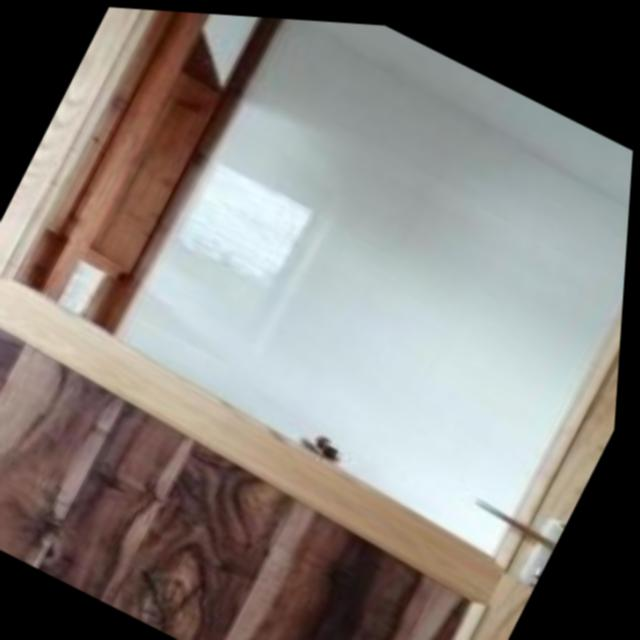door_handle: (460, 466, 574, 542)
